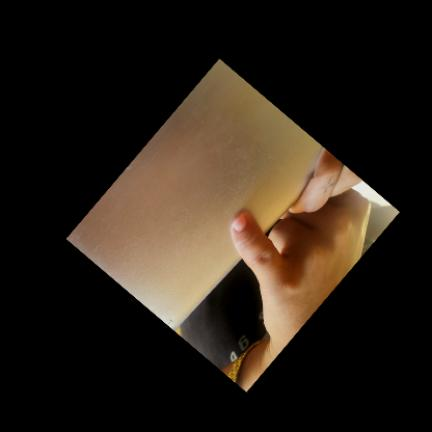Nail: (232, 215, 246, 231)
